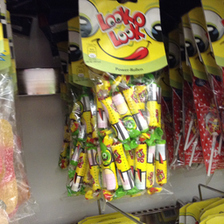candy: (81, 3, 163, 199), (186, 10, 224, 162)
